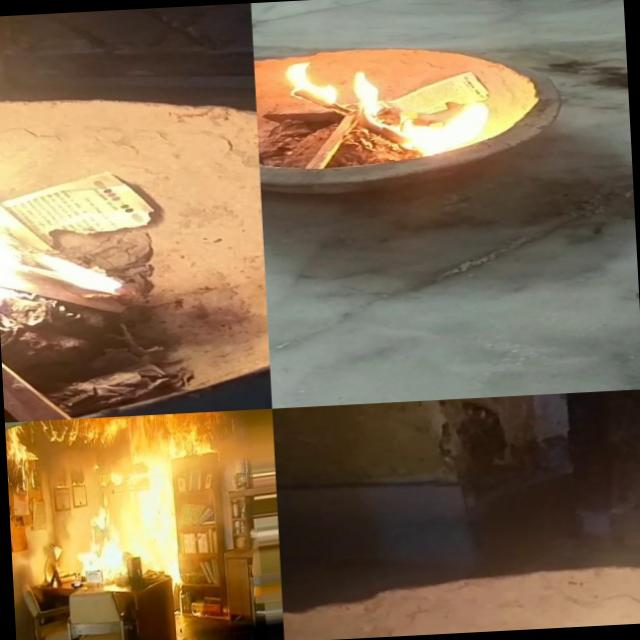fire: (0, 62, 170, 340), (268, 40, 494, 172), (46, 410, 234, 458), (72, 492, 128, 582), (5, 424, 39, 509)
